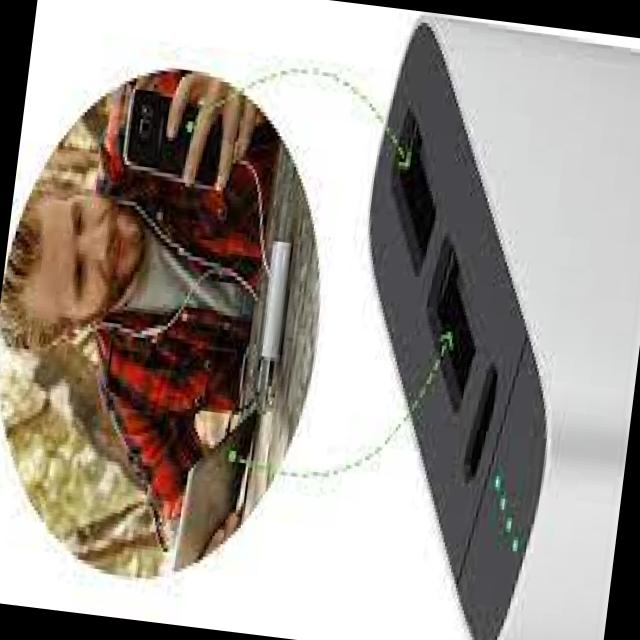portable-charger: (303, 5, 640, 640)
